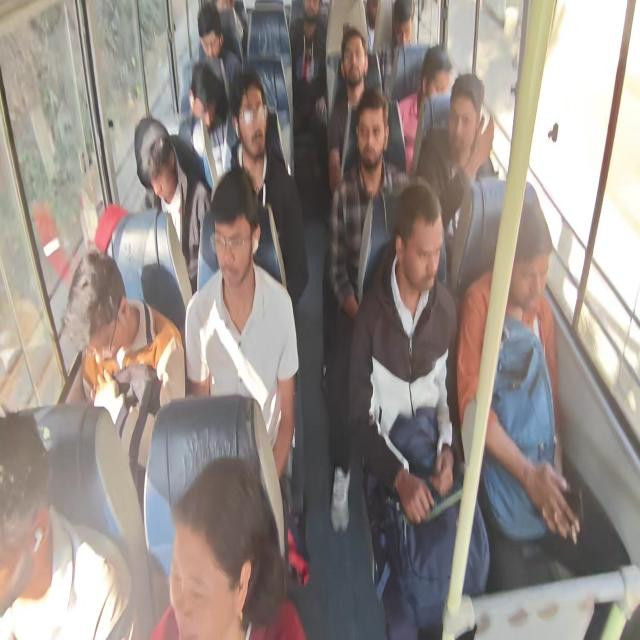person: (348, 180, 490, 638), (456, 183, 580, 590), (322, 87, 413, 532), (184, 166, 299, 481), (0, 411, 136, 638), (150, 455, 306, 639), (59, 248, 185, 412), (228, 70, 308, 304), (416, 72, 495, 285), (134, 115, 212, 294), (288, 0, 328, 216), (327, 26, 378, 195), (396, 44, 452, 175), (178, 59, 235, 177), (196, 1, 242, 114), (379, 0, 427, 99), (215, 0, 248, 66), (392, 0, 414, 48)
